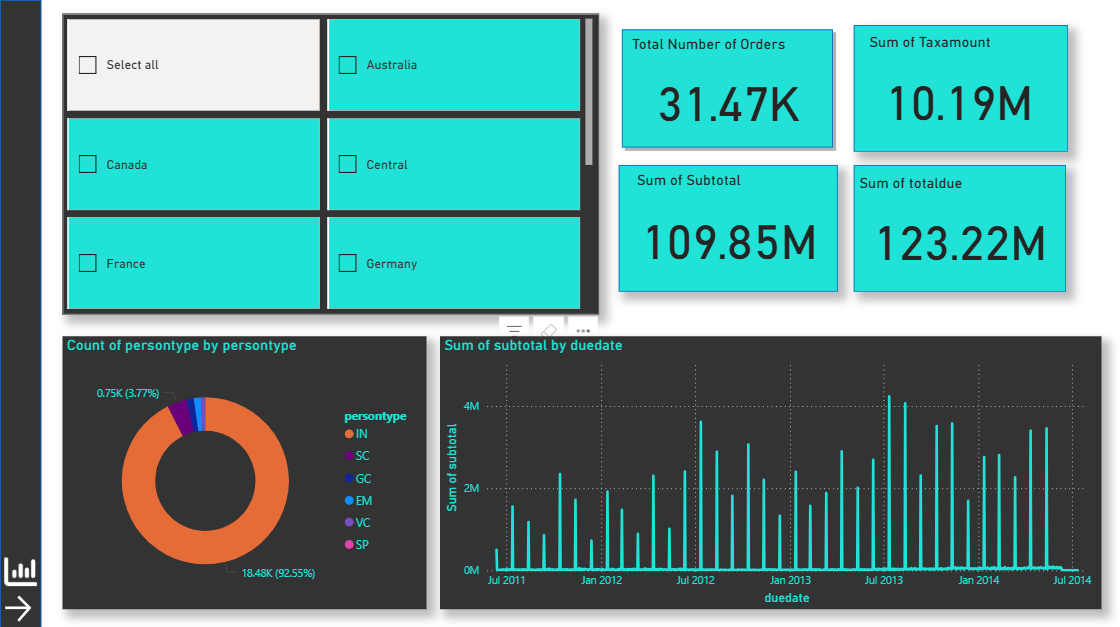

The page's visual inventory and layout, read from the dashboard file:
{"tool":"powerbi","page":{"name":"Home ","canvas":[1280,720],"ordinal":0},"visuals":[{"type":"shape","box":[0,0,47.3,720.3],"z":0,"group":"g5"},{"type":"group","id":"g1","title":"Group 1","box":[706.2,28.8,251.2,145],"z":0},{"type":"advancedSlicerVisual","fields":{"Values":["silver dimterritory.name"]},"box":[71.2,16.2,612.5,343.8],"z":1000},{"type":"actionButton","box":[0,675.5,47.3,39.8],"z":1000,"group":"g5"},{"type":"shape","box":[706.2,28.8,251.3,145],"z":2000,"group":"g1"},{"type":"shape","box":[975,28.8,245,145],"z":2000,"group":"g3"},{"type":"shape","box":[707.5,188.8,250.3,144.9],"z":2000,"group":"g2"},{"type":"shape","box":[975,188.8,242.5,145],"z":2000,"group":"g4"},{"type":"donutChart","fields":{"Category":["silver dimperson.persontype"],"Y":["CountNonNull(silver dimperson.persontype)"]},"box":[71.2,384.1,416,311.7],"z":2000},{"type":"card","title":"Total Number of Orders","fields":{"Values":["Count(silver factsales.salesorderid)"]},"box":[718,40.1,231.5,125.6],"z":3000,"group":"g1"},{"type":"group","id":"g2","title":"Group 2","box":[707.5,188.8,251.2,145],"z":3000},{"type":"image","box":[0,631.9,47.3,43.5],"z":3000,"group":"g5"},{"type":"card","title":"Sum of Subtotal","fields":{"Values":["Sum(silver factsales.subtotal)"]},"box":[723.5,196.6,220.9,129.4],"z":3005,"group":"g2"},{"type":"card","title":"Sum of Taxamount","fields":{"Values":["Sum(silver factsales.taxamt)"]},"box":[988.2,36.7,214.7,130.1],"z":3008,"group":"g3"},{"type":"lineChart","fields":{"Category":["silver factsales.duedate"],"Y":["Sum(silver factsales.subtotal)"]},"box":[503.1,384.1,755.8,311.7],"z":4000},{"type":"group","id":"g3","title":"Group 4","box":[975,28.8,245,145],"z":5000},{"type":"group","id":"g4","title":"Group 3","box":[975,188.8,242.5,145],"z":6000},{"type":"group","id":"g5","title":"Group 5","box":[0,0,47.3,720.3],"z":7000},{"type":"card","title":"Sum of totaldue","fields":{"Values":["Sum(silver factsales.totaldue)"]},"box":[976.3,198.5,239.9,125.7],"z":8501,"group":"g4"}]}

Visuals, with their boxes on the page's 1280x720 design canvas (x1, y1, x2, y2). These are canvas units, not pixel positions in the 1120x627 screenshot, which may show the page scaled, cropped or inside an application window:
shape: 0, 0, 47, 720
"Group 1" group: 706, 29, 957, 174
advancedSlicerVisual - silver dimterritory.name: 71, 16, 684, 360
actionButton: 0, 676, 47, 715
shape: 706, 29, 958, 174
shape: 975, 29, 1220, 174
shape: 708, 189, 958, 334
shape: 975, 189, 1218, 334
donutChart - silver dimperson.persontype x CountNonNull(silver dimperson.persontype): 71, 384, 487, 696
"Total Number of Orders" card: 718, 40, 950, 166
"Group 2" group: 708, 189, 959, 334
image: 0, 632, 47, 675
"Sum of Subtotal" card: 724, 197, 944, 326
"Sum of Taxamount" card: 988, 37, 1203, 167
lineChart - silver factsales.duedate x Sum(silver factsales.subtotal): 503, 384, 1259, 696
"Group 4" group: 975, 29, 1220, 174
"Group 3" group: 975, 189, 1218, 334
"Group 5" group: 0, 0, 47, 720
"Sum of totaldue" card: 976, 198, 1216, 324
